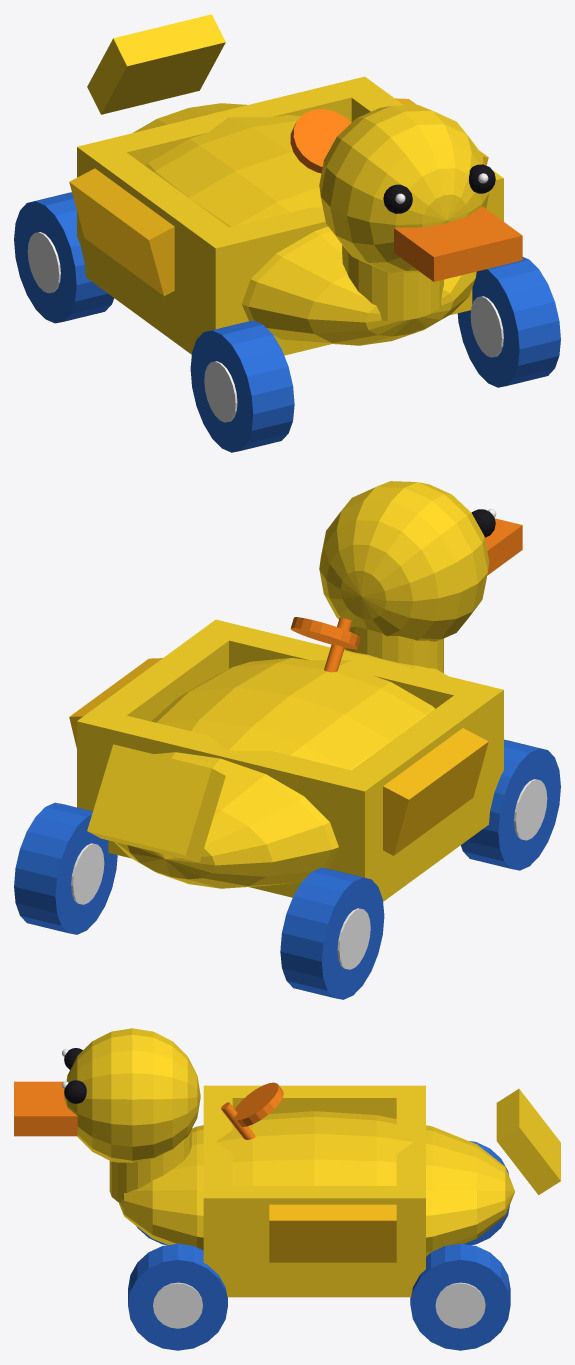
Rendered from ride_duck.fbx.
3 renders of one model, top to bottom at view 1: azimuth 30°, elevation 25°; view 2: azimuth 150°, elevation 25°; view 3: azimuth 270°, elevation 25°, orthographic. The views are drawn at different scales.
Visible parts, largest first — view 1: ride_duck; view 2: ride_duck; view 3: ride_duck.
Part boxes in pixels (left/top/right/bottom): ride_duck: left=14, top=14, right=560, bottom=452; ride_duck: left=14, top=481, right=560, bottom=999; ride_duck: left=14, top=1028, right=560, bottom=1350.
Bounding box in the file's own units: 345 × 310 × 600.
1 material, 1 textured.
